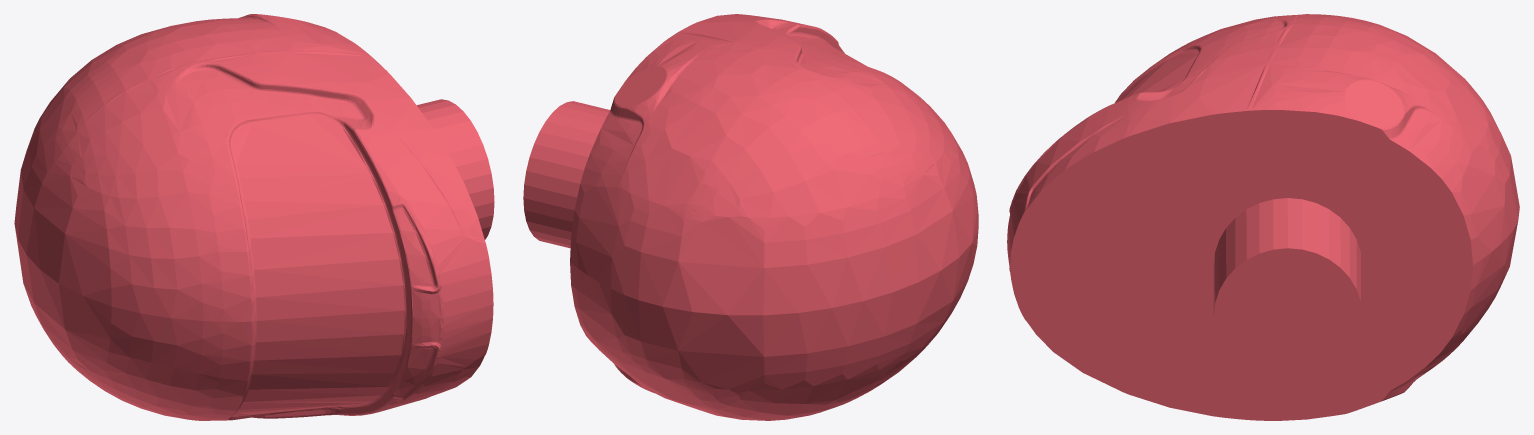
Rendered from dragon-car.glb.
The picture shows the model from 3 angles, left to right: view 1: azimuth 30°, elevation 25°; view 2: azimuth 150°, elevation 25°; view 3: azimuth 270°, elevation 25°; orthographic projection. The views are drawn at different scales.
Parts seen in each view (by area): view 1: car.stl; view 2: car.stl; view 3: car.stl.
Part boxes in pixels (bbox=[...]): car.stl: bbox=[14, 14, 494, 420]; car.stl: bbox=[523, 14, 978, 420]; car.stl: bbox=[1007, 14, 1519, 420].
Size of the model in its own units: 2.7 by 2.23 by 3.
